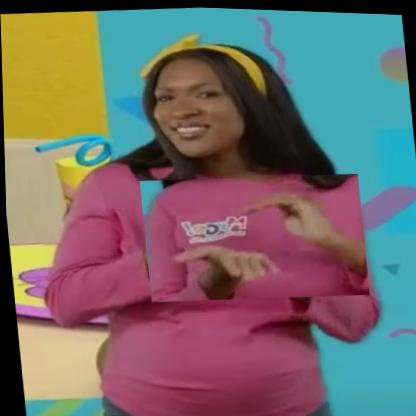ExcuseMe: (138, 165, 368, 308)
